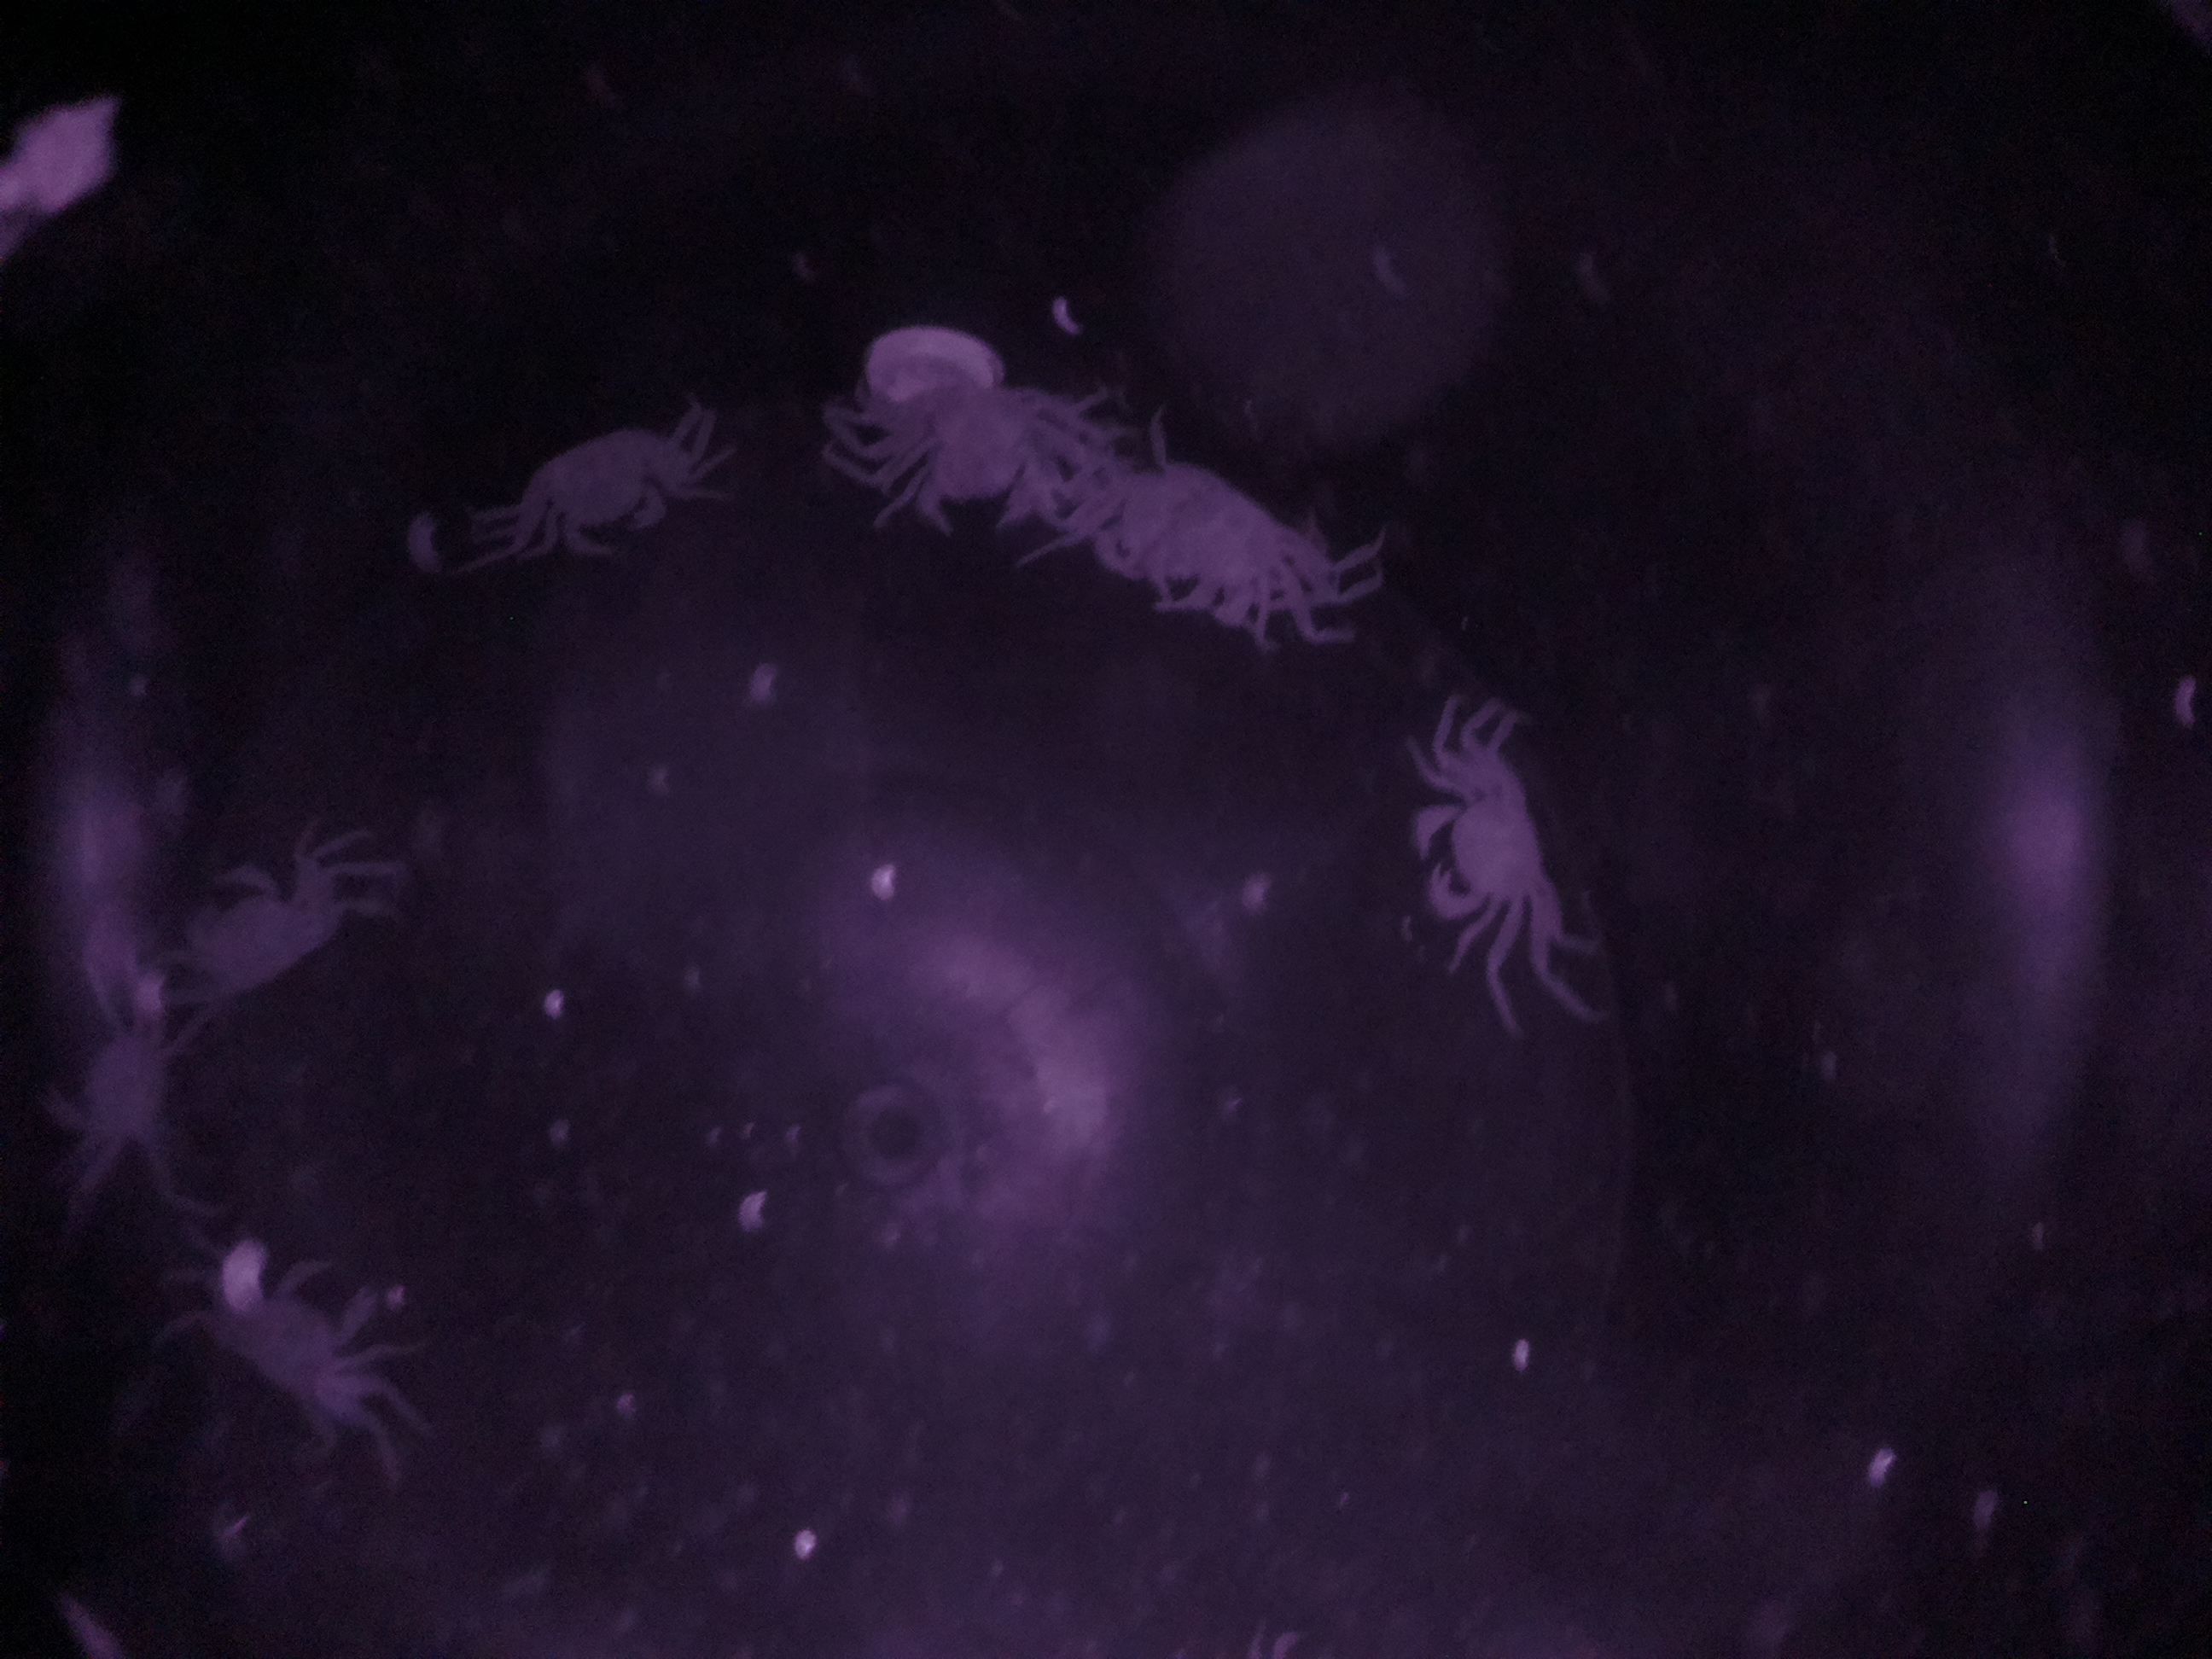Crab: (1383, 737, 1602, 967), (488, 420, 709, 573)
